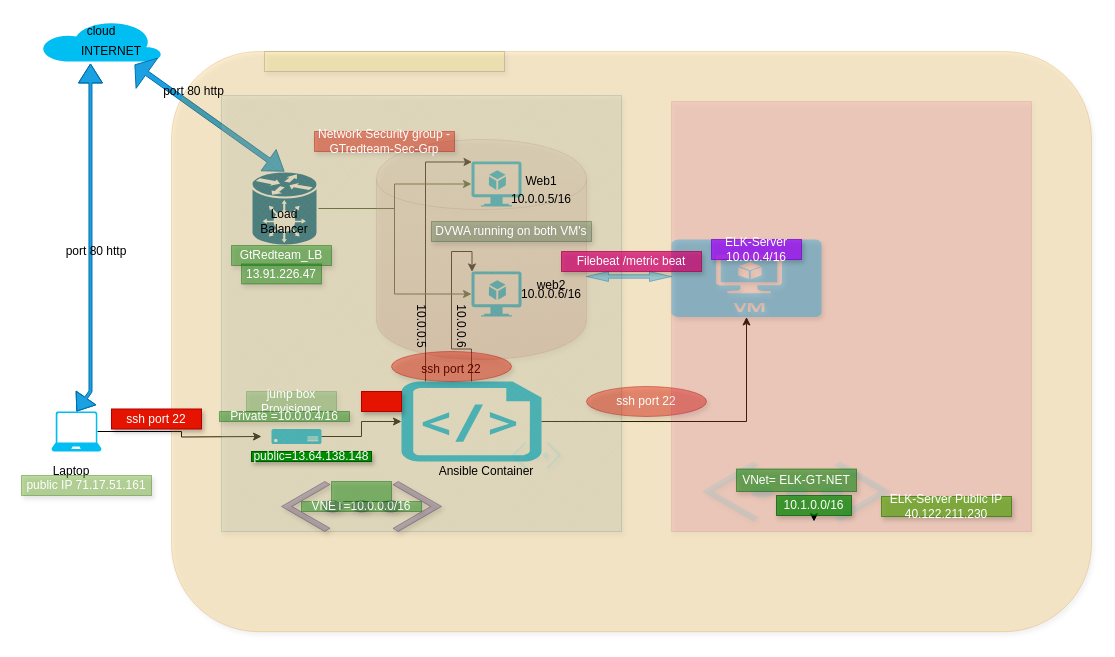
This 1115x657 diagram has some shape labels left out. Here are the shapes that lost their labels. From the top down, the centre of each, then its label:
(x=385, y=62): Resource group =GT_Redteam
(x=382, y=402): ssh 22
(x=362, y=492): GTRedteam
